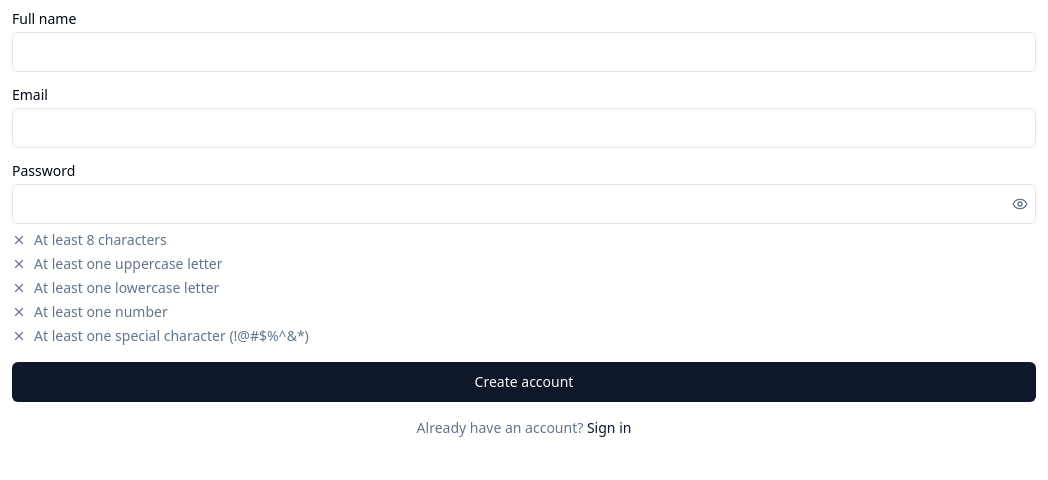
RegisterForm › maps server-side 422 VALIDATION_ERROR details to fields
The image size is (1048, 480).
Type "Jane Doe" into the field labelled "Full name" at (524, 52), box [12, 32, 1036, 72]
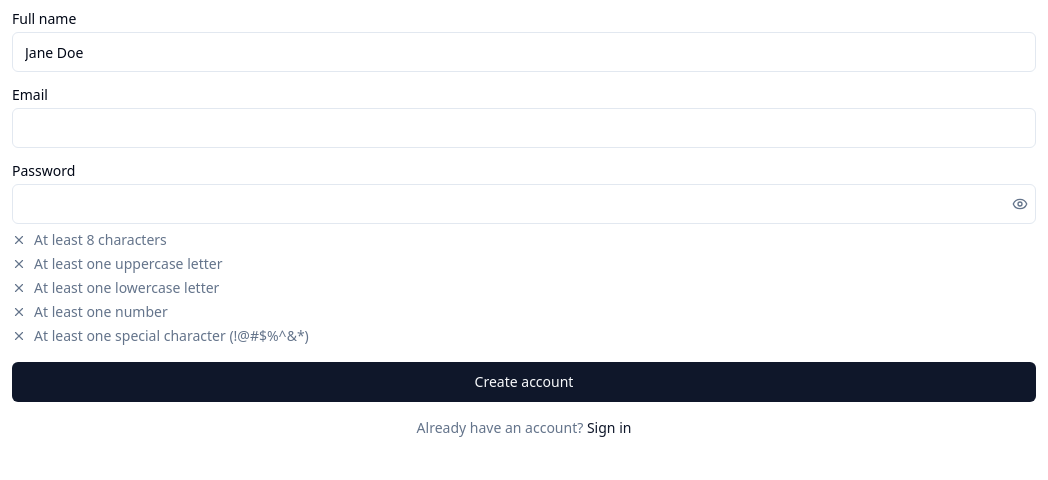
Type "jane@example.com" into the field labelled "Email" at (524, 128), box [12, 108, 1036, 148]
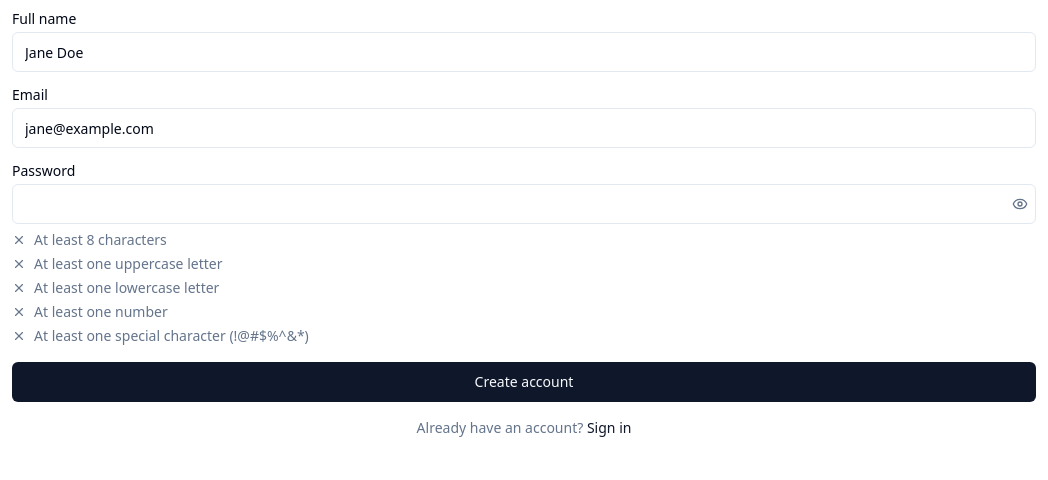
Type "Password1!" into the password field labelled "Password" at (524, 204), box [12, 184, 1036, 224]
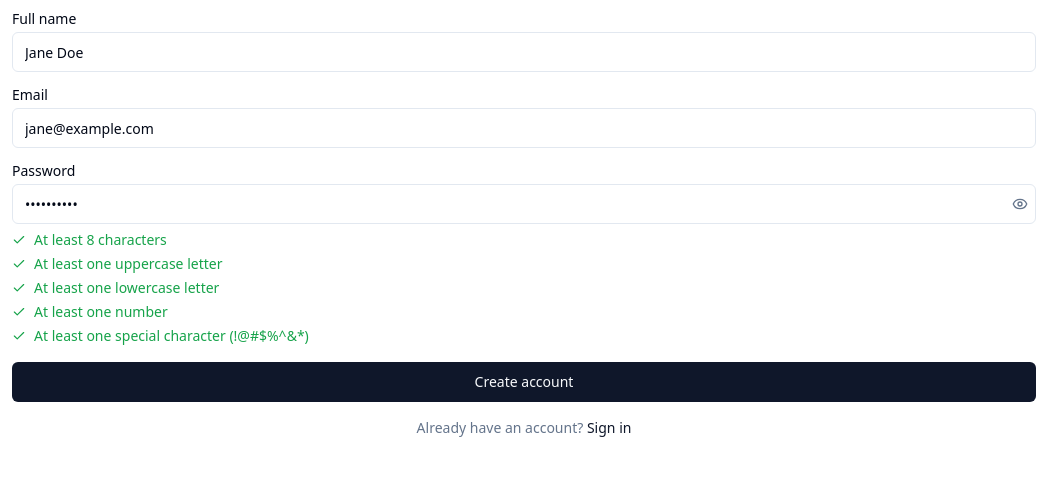
Click the button "Create account" at (524, 382), box [12, 362, 1036, 402]
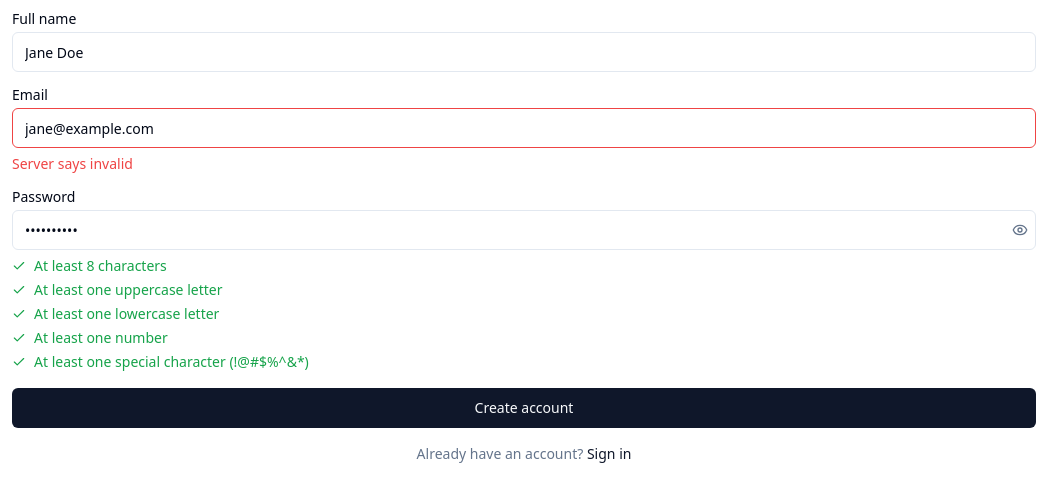
Now the text "Server says invalid" is shown, box [12, 154, 133, 173]
